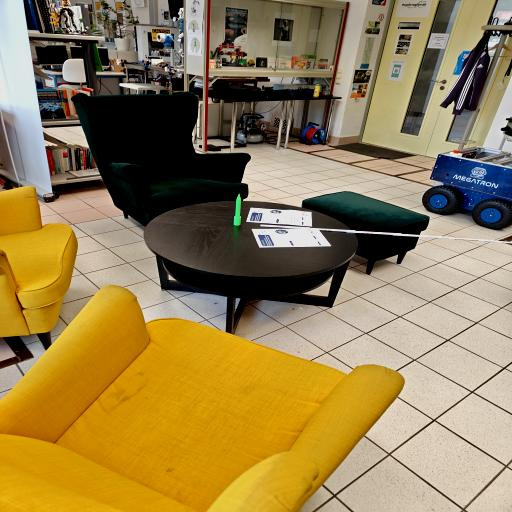Probe-Detection: (233, 194, 241, 226)
